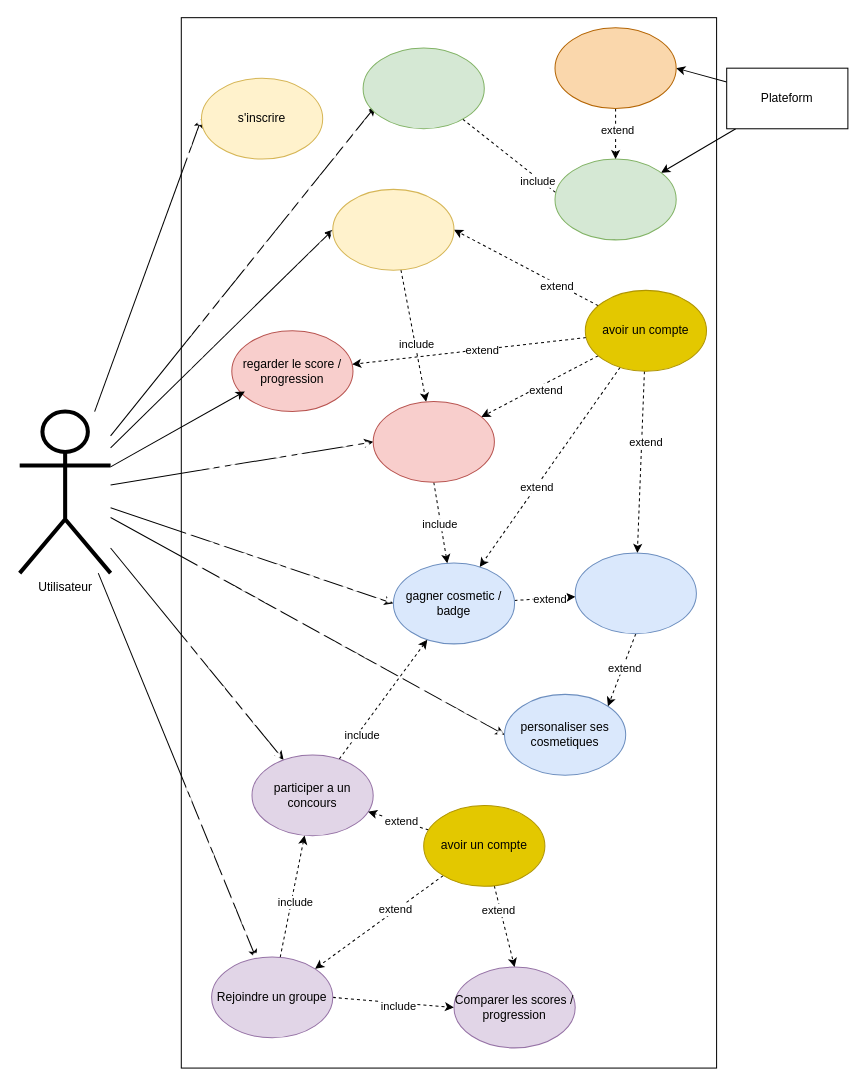
Image size: 866x1086. Some labels were removed from this diagram. Each missing label, with the centre of its shape:
"avoir des cosmetiques" belongs at [635,593].
"Donner explication / raison sur le trie" belongs at [615,199].
"gagner des points" belongs at [433,441].
"Recherche d'information dans la base de données" belongs at [615,68].
"scanner un déchet" belongs at [423,88].
"se connecter à son compte utilisateur" belongs at [393,229].
